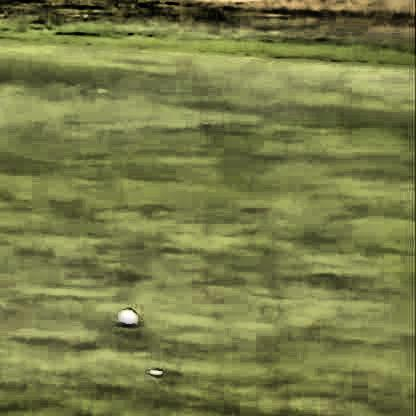golfball: (115, 306, 134, 324)
